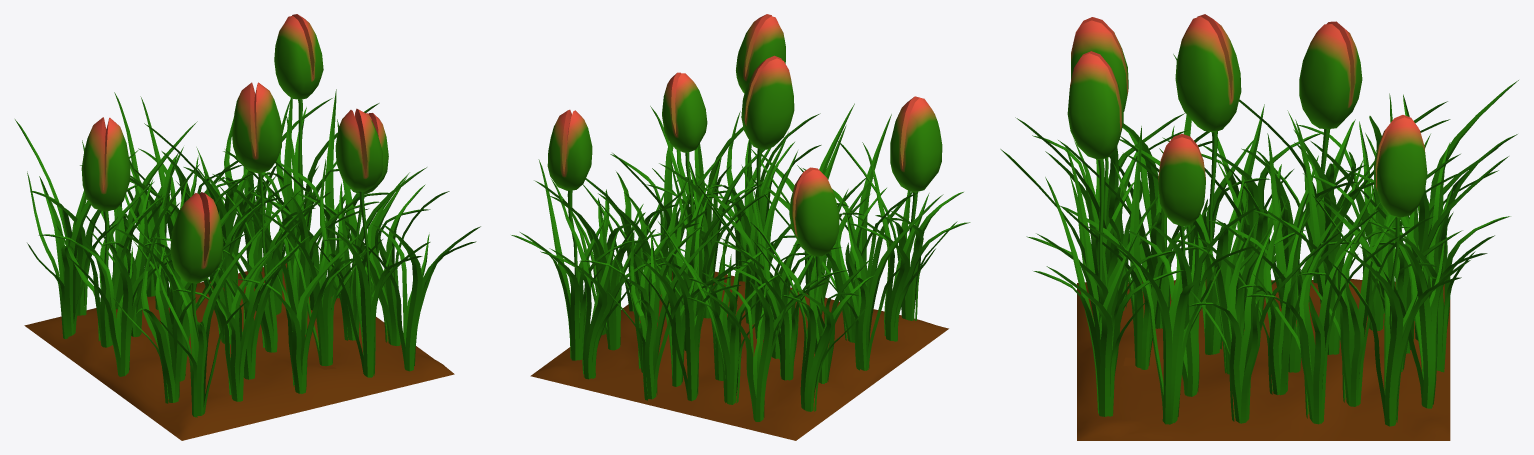
Rendered from red-tulip-p3-leaf.glb.
3 renders of one model, left to right at view 1: azimuth 30°, elevation 25°; view 2: azimuth 150°, elevation 25°; view 3: azimuth 270°, elevation 25°, orthographic. The views are drawn at different scales.
Visible parts, largest first — view 1: 3_nft_out_of _bloom; view 2: 3_nft_out_of _bloom; view 3: 3_nft_out_of _bloom.
Part boxes in pixels (x1=…): 3_nft_out_of _bloom: x1=15, y1=14, x2=480, y2=440; 3_nft_out_of _bloom: x1=511, y1=14, x2=970, y2=440; 3_nft_out_of _bloom: x1=1000, y1=14, x2=1518, y2=440.
Size of the model in its own units: 0.8884 by 0.7044 by 0.9749.
3 materials, 1 textured.
